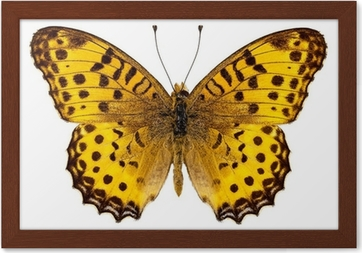Argyreus hyperbius: (28, 21, 328, 225)
butterfly: (30, 23, 330, 227)
